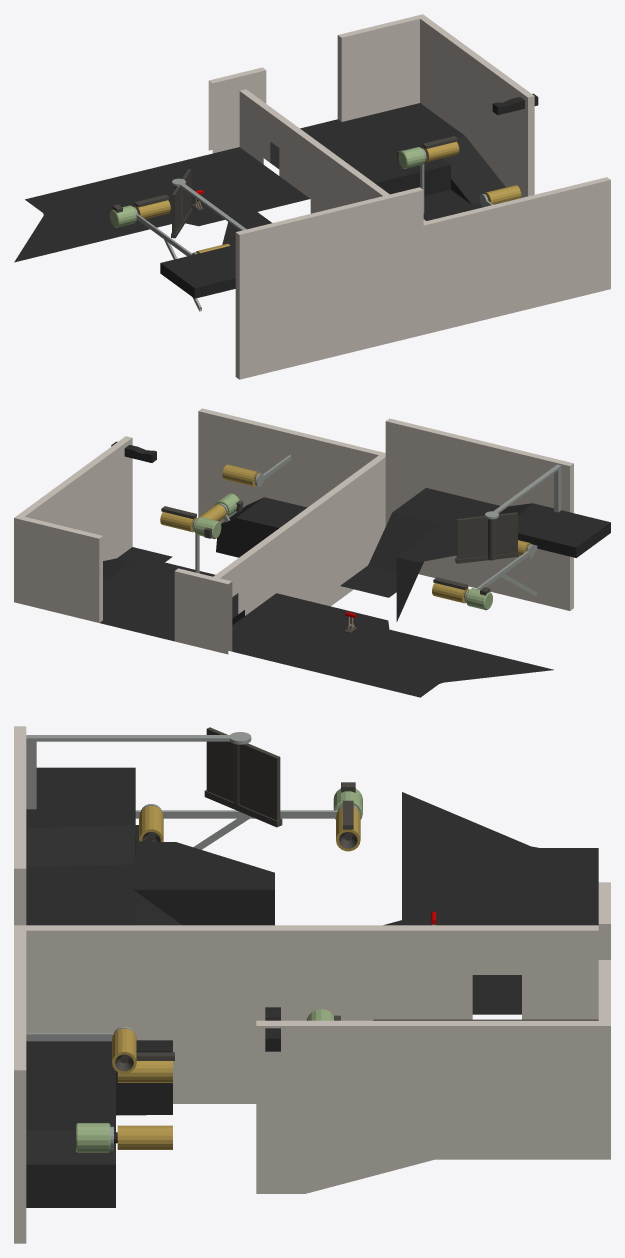
File: ConveyorRoom.fbx
3 renders of one model, top to bottom at view 1: azimuth 30°, elevation 25°; view 2: azimuth 150°, elevation 25°; view 3: azimuth 270°, elevation 25°, orthographic. The views are drawn at different scales.
Visible parts, largest first — view 1: AutomaticDoorWall.002, ConveyorGround, ChargerGateWall.002, ConveyorRoomRoll, ConveyorRoomRoll.002, ConveyorRoomGate; view 2: AutomaticDoorWall.002, ConveyorGround, ChargerGateWall.002, ConveyorRoomRollHolder, ConveyorRoomGate, ConveyorRoomRoll, ConveyorRoomRoll.002, BeltB_RollEnd, BeltA_RollStart, BeltB_RollStart, ConveyorRoomRoll.001; view 3: AutomaticDoorWall.002, ChargerGateWall.002, ConveyorGround, ConveyorRoomRollHolder, ConveyorRoomRoll, ConveyorRoomGate, BeltC_RollEnd, ConveyorRoomRoll.001, ConveyorRoomRoll.002, BeltB_RollEnd, BeltC_RollStart, BeltA_RollEnd (+1 smaller).
Part boxes in pixels (bbox=[...]): AutomaticDoorWall.002: bbox=[235, 89, 610, 379]; ConveyorGround: bbox=[14, 93, 538, 298]; ChargerGateWall.002: bbox=[208, 14, 534, 197]; ConveyorRoomRoll: bbox=[109, 178, 246, 311]; ConveyorRoomRoll.002: bbox=[397, 147, 493, 212]; ConveyorRoomGate: bbox=[172, 169, 191, 233]; AutomaticDoorWall.002: bbox=[198, 408, 573, 615]; ConveyorGround: bbox=[100, 441, 610, 697]; ChargerGateWall.002: bbox=[14, 436, 232, 654]; ConveyorRoomRollHolder: bbox=[216, 497, 307, 557]; ConveyorRoomGate: bbox=[456, 512, 517, 560]; ConveyorRoomRoll: bbox=[464, 464, 561, 610]; ConveyorRoomRoll.002: bbox=[192, 455, 291, 573]; BeltB_RollEnd: bbox=[222, 464, 259, 486]; BeltA_RollStart: bbox=[432, 583, 468, 603]; BeltB_RollStart: bbox=[160, 512, 197, 532]; ConveyorRoomRoll.001: bbox=[215, 493, 243, 522]; AutomaticDoorWall.002: bbox=[14, 726, 598, 1243]; ChargerGateWall.002: bbox=[256, 882, 610, 1193]; ConveyorGround: bbox=[26, 767, 598, 1051]; ConveyorRoomRollHolder: bbox=[26, 1040, 172, 1207]; ConveyorRoomRoll: bbox=[26, 732, 362, 849]; ConveyorRoomGate: bbox=[206, 727, 280, 820]; BeltC_RollEnd: bbox=[117, 1125, 172, 1149]; ConveyorRoomRoll.001: bbox=[76, 1123, 117, 1152]; ConveyorRoomRoll.002: bbox=[26, 1009, 340, 1041]; BeltB_RollEnd: bbox=[112, 1028, 136, 1073]; BeltC_RollStart: bbox=[116, 1061, 172, 1082]; BeltA_RollEnd: bbox=[139, 806, 163, 841].
Size of the model in its own units: 35.88 by 10.31 by 24.27.
Materials: 1 (1 with a texture image).
